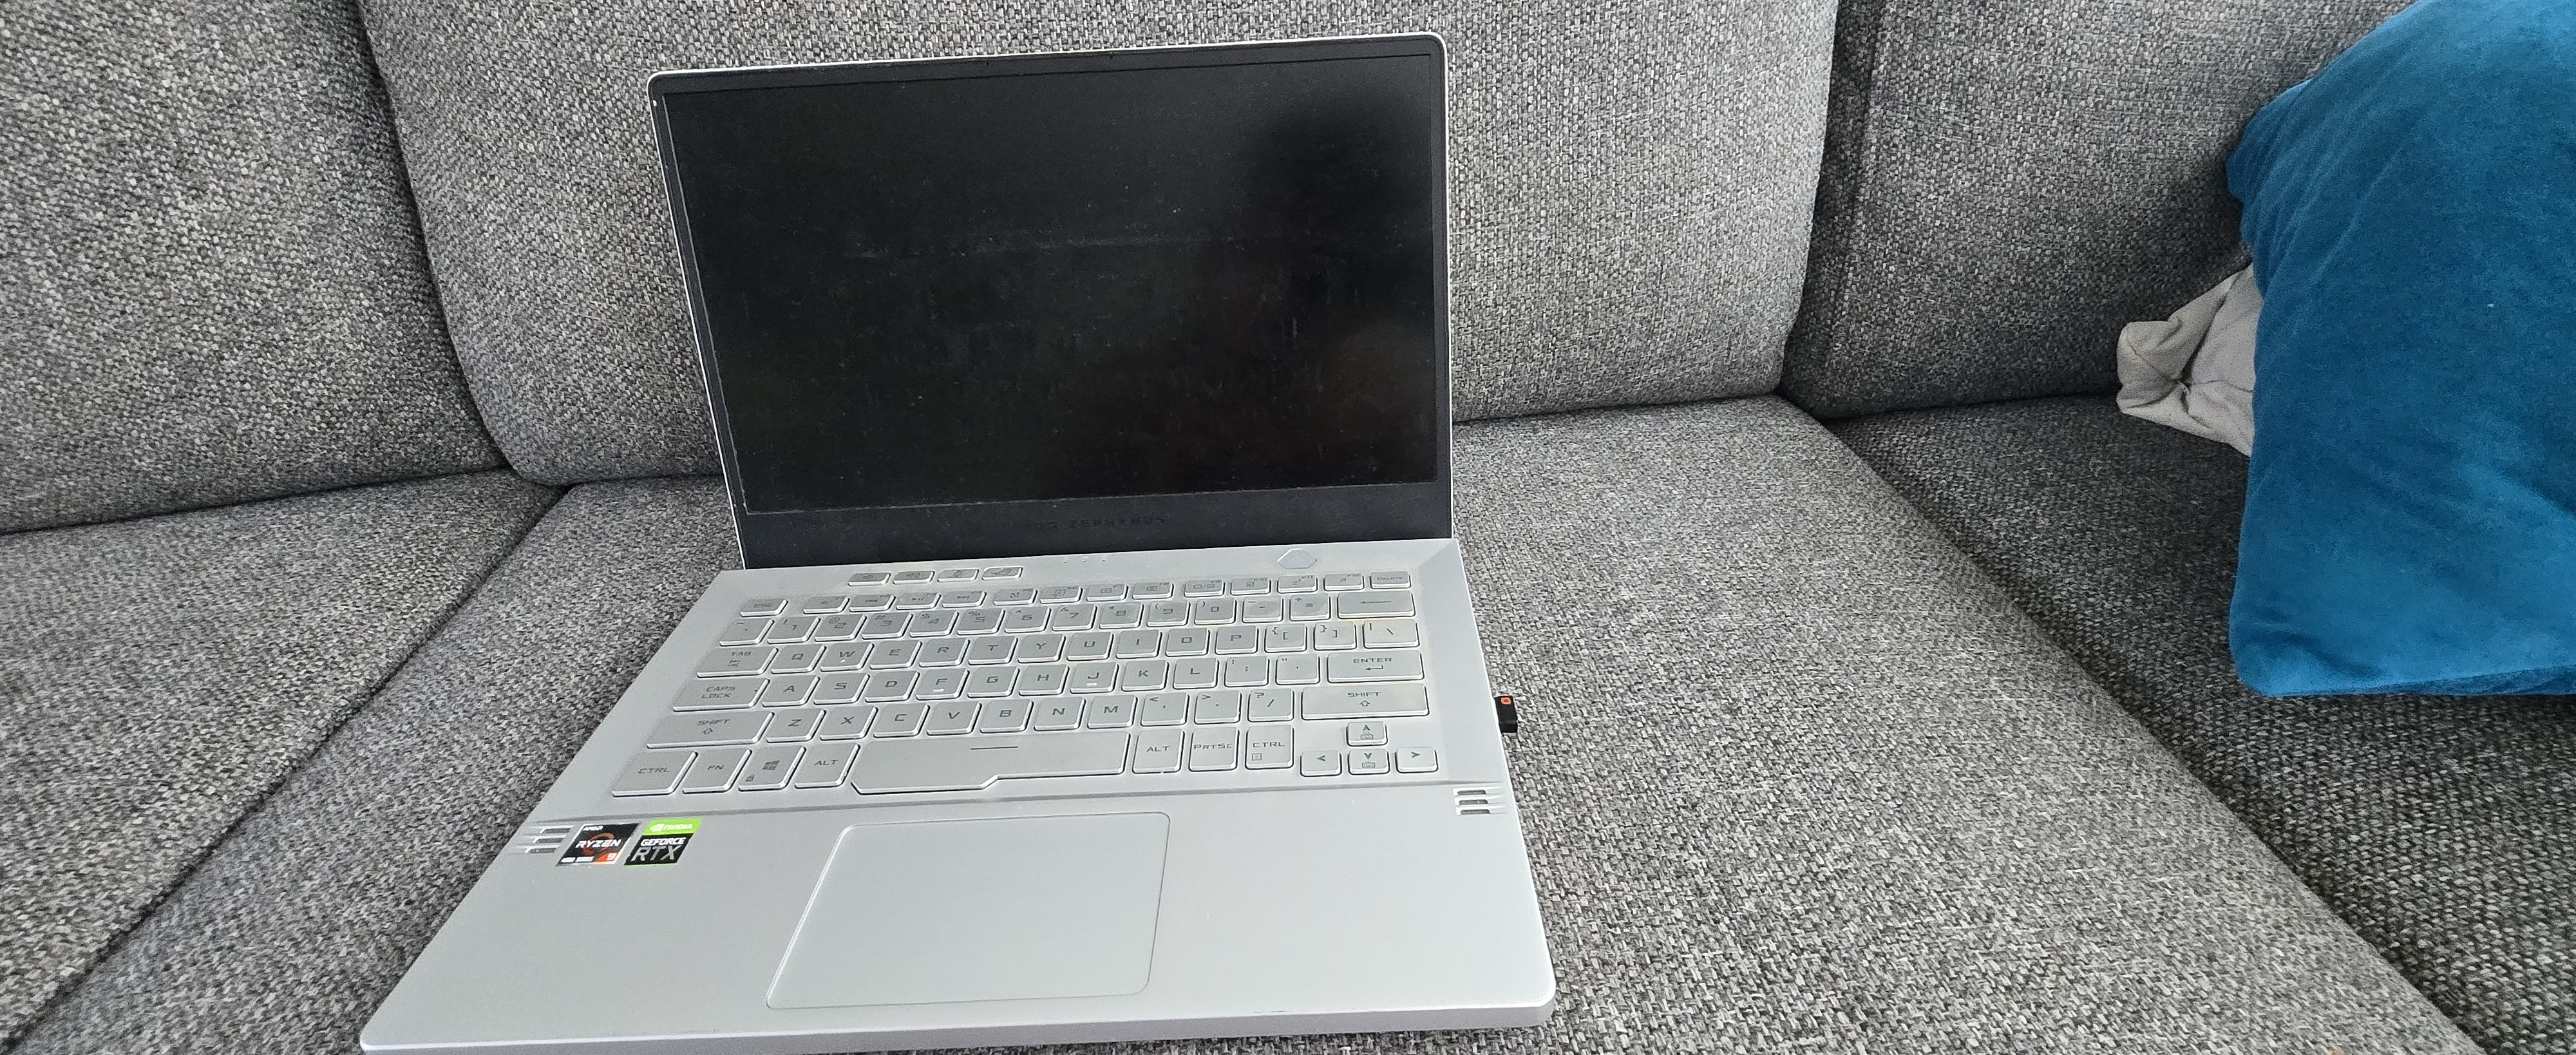laptop: (329, 18, 1607, 1055)
